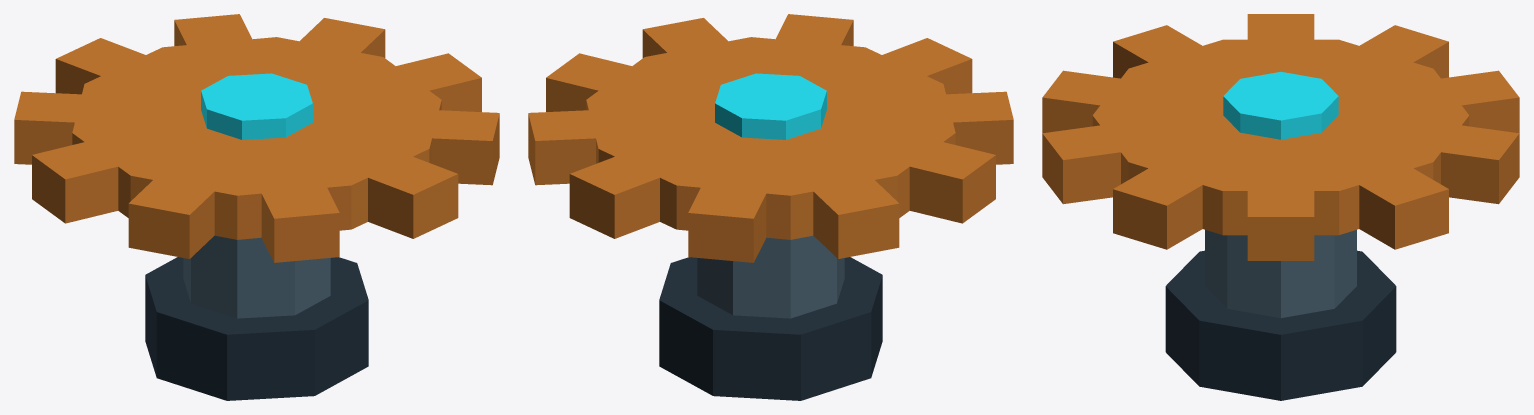
The model's file is mecanico_engranaje.obj.
The picture shows the model from 3 angles, left to right: view 1: azimuth 30°, elevation 25°; view 2: azimuth 150°, elevation 25°; view 3: azimuth 270°, elevation 25°; orthographic projection.
Parts seen in each view (by area): view 1: mecanico_engranaje; view 2: mecanico_engranaje; view 3: mecanico_engranaje.
Part boxes in pixels (left/top/right/bottom): mecanico_engranaje: left=14, top=14, right=499, bottom=400; mecanico_engranaje: left=528, top=14, right=1013, bottom=400; mecanico_engranaje: left=1042, top=14, right=1519, bottom=400.
Size of the model in its own units: 1.58 by 0.93 by 1.57.
